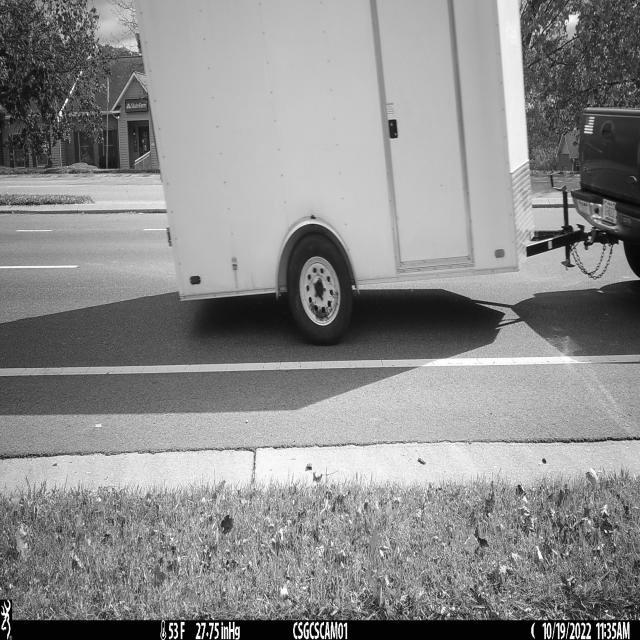Trailer: (133, 0, 602, 348)
